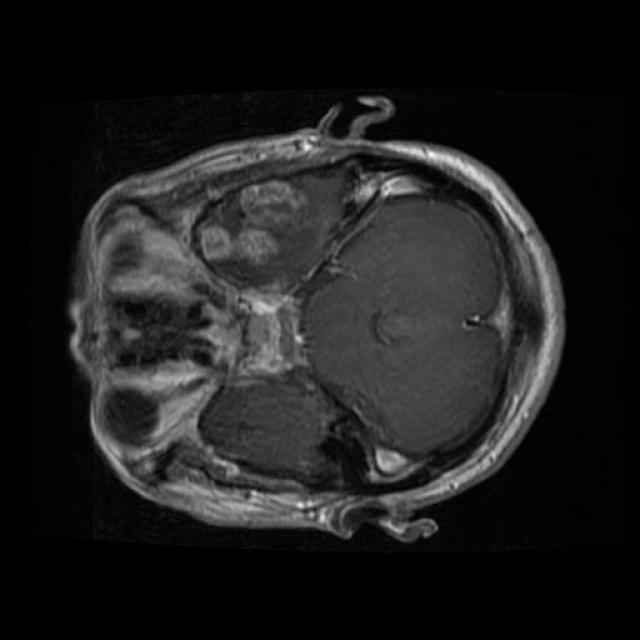Glioma: (201, 179, 324, 286)
